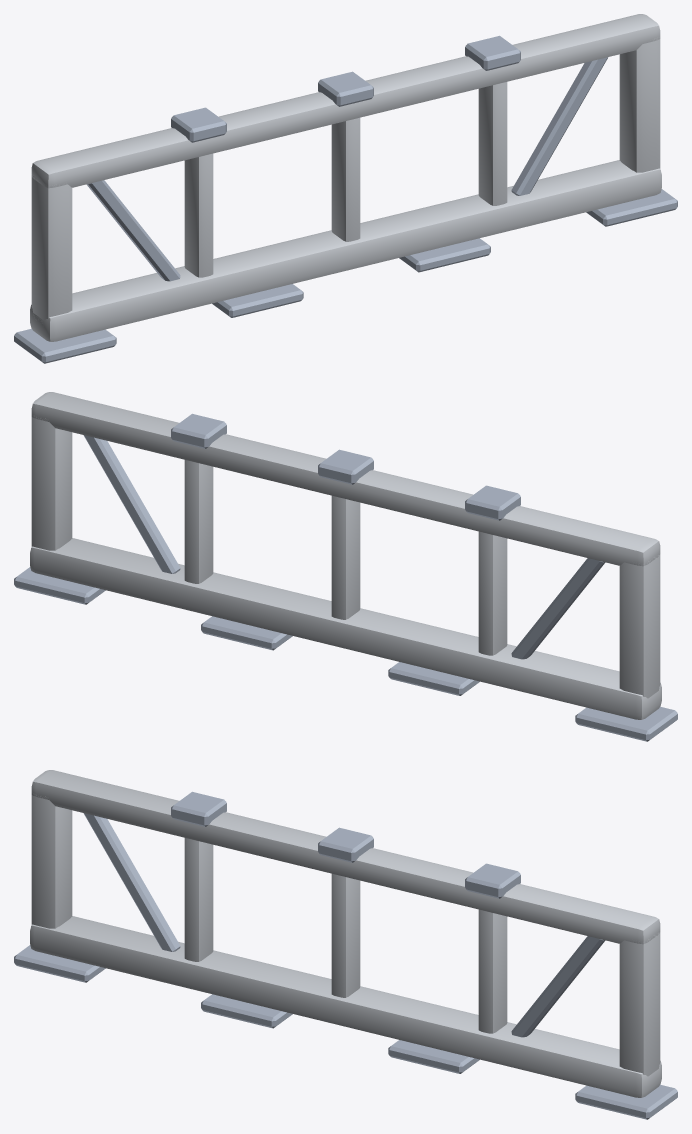
The model's file is roof_light_bracket.glb.
3 views of the same model, one above another, from view 1: azimuth 30°, elevation 25°; view 2: azimuth 150°, elevation 25°; view 3: azimuth 330°, elevation 25° (orthographic).
Parts seen in each view (by area): view 1: chrome, steel; view 2: chrome, steel; view 3: chrome, steel.
Boxes of the visible parts, x1=… form: chrome: x1=30, y1=14, x2=661, y2=341; steel: x1=14, y1=35, x2=677, y2=363; chrome: x1=30, y1=392, x2=661, y2=719; steel: x1=14, y1=413, x2=677, y2=741; chrome: x1=30, y1=770, x2=661, y2=1097; steel: x1=14, y1=791, x2=677, y2=1119.
Bounding box in the file's own units: 2.38 × 0.695 × 0.2.
